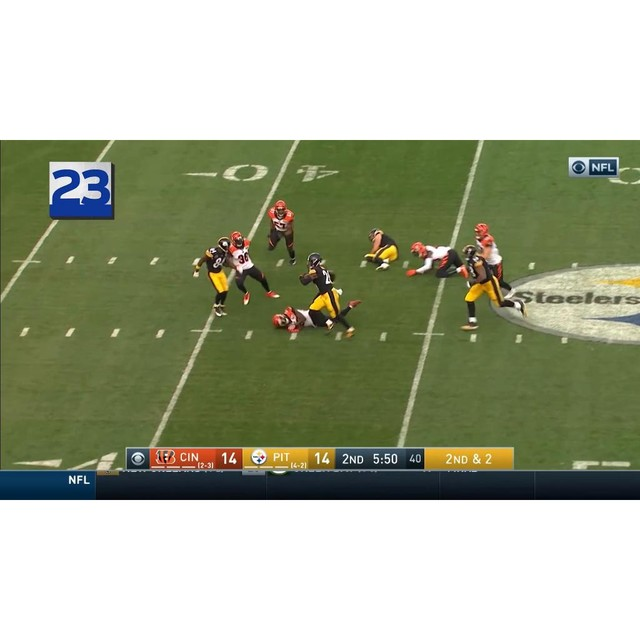american-football-player: (459, 243, 527, 328), (298, 252, 352, 338), (228, 233, 280, 308), (192, 239, 236, 315), (274, 302, 356, 342), (473, 224, 515, 292), (406, 243, 467, 280), (266, 201, 298, 267), (359, 229, 401, 271)
